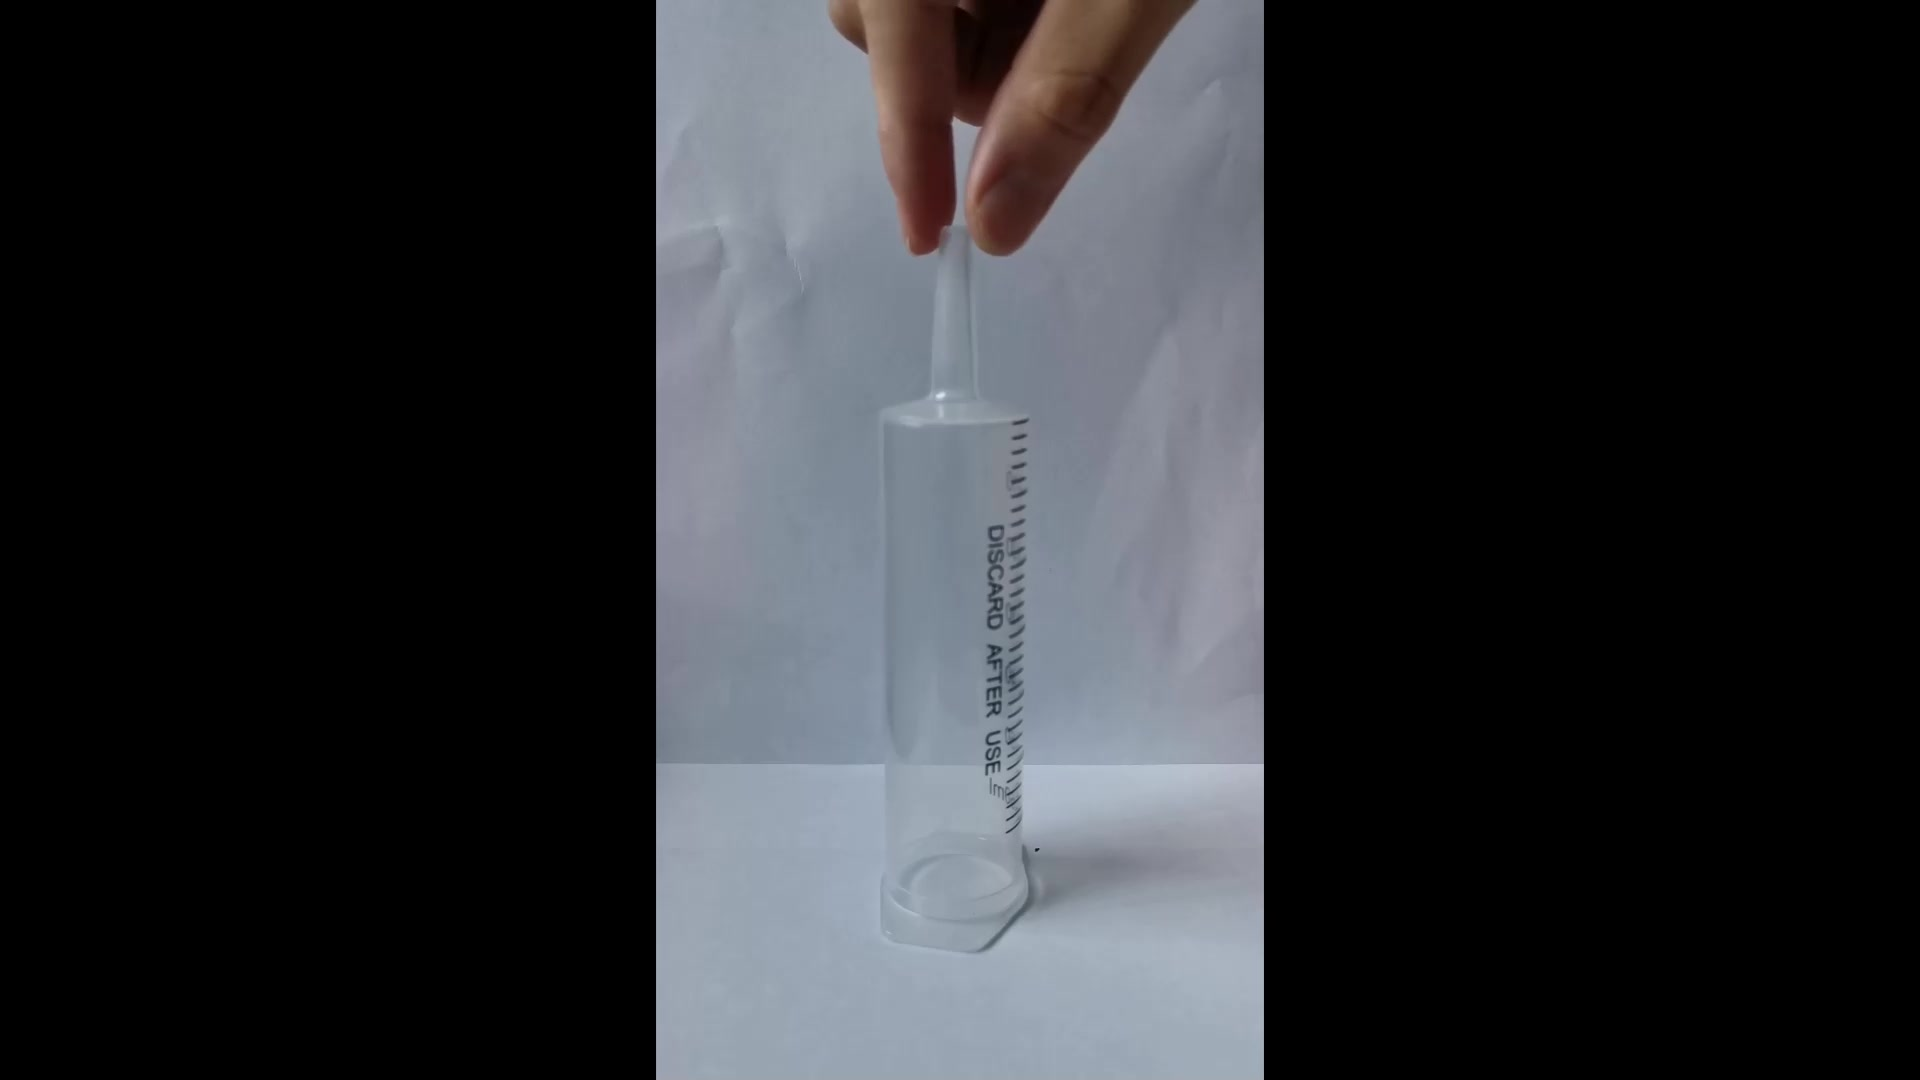syringe: (861, 251, 1048, 959)
